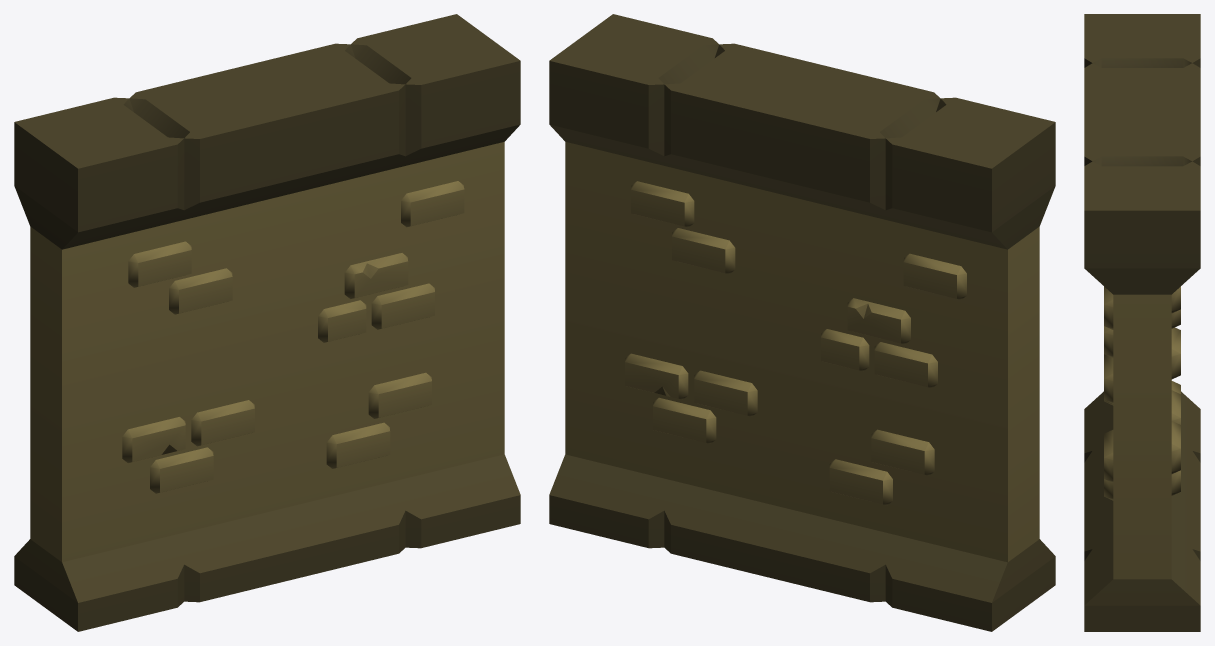
Rendered from wall.glb.
3 renders of one model, left to right at view 1: azimuth 30°, elevation 25°; view 2: azimuth 150°, elevation 25°; view 3: azimuth 270°, elevation 25°, orthographic. The views are drawn at different scales.
Visible parts, largest first — view 1: wall; view 2: wall; view 3: wall.
Part boxes in pixels (bbox=[...]): wall: bbox=[14, 14, 520, 631]; wall: bbox=[549, 14, 1055, 631]; wall: bbox=[1084, 14, 1200, 631].
Size of the model in its own units: 4 by 4 by 1.
1 material, 1 textured.
